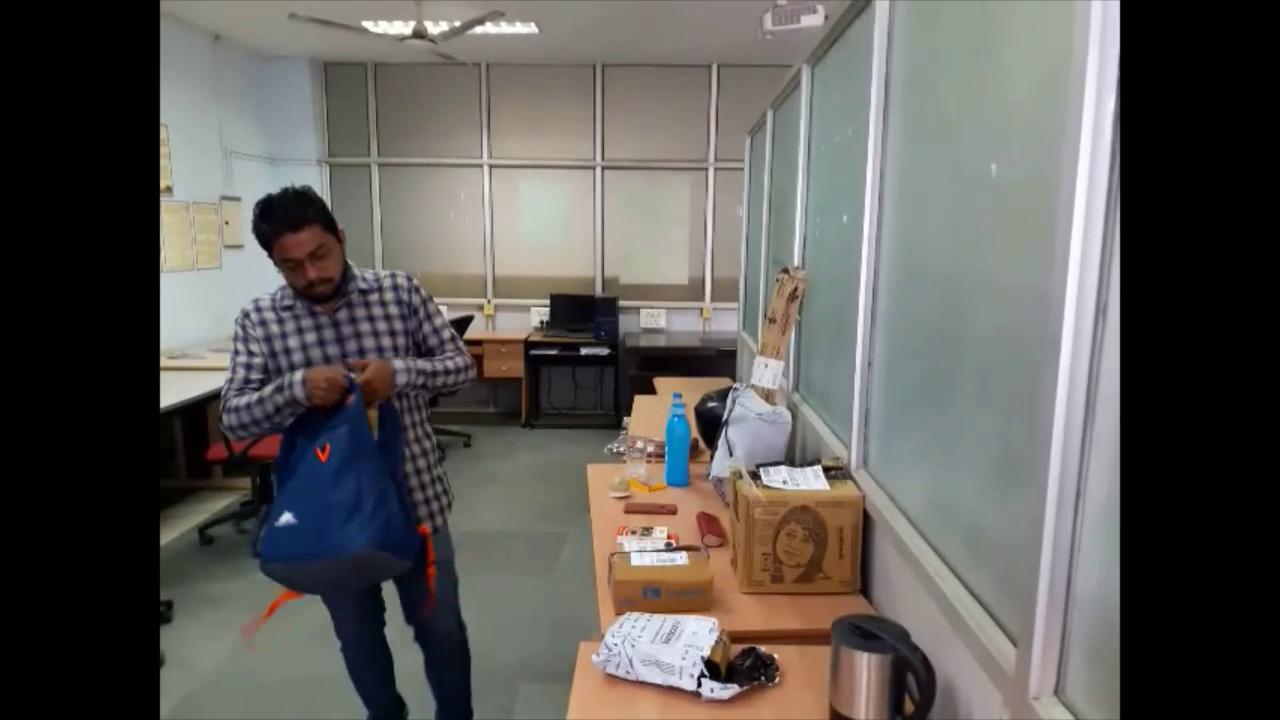shoplifting: (200, 172, 478, 713)
